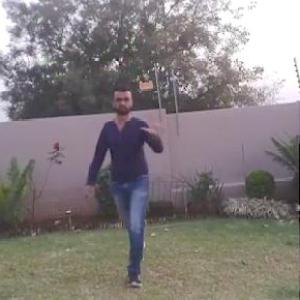follow_hand: (142, 108, 166, 136)
